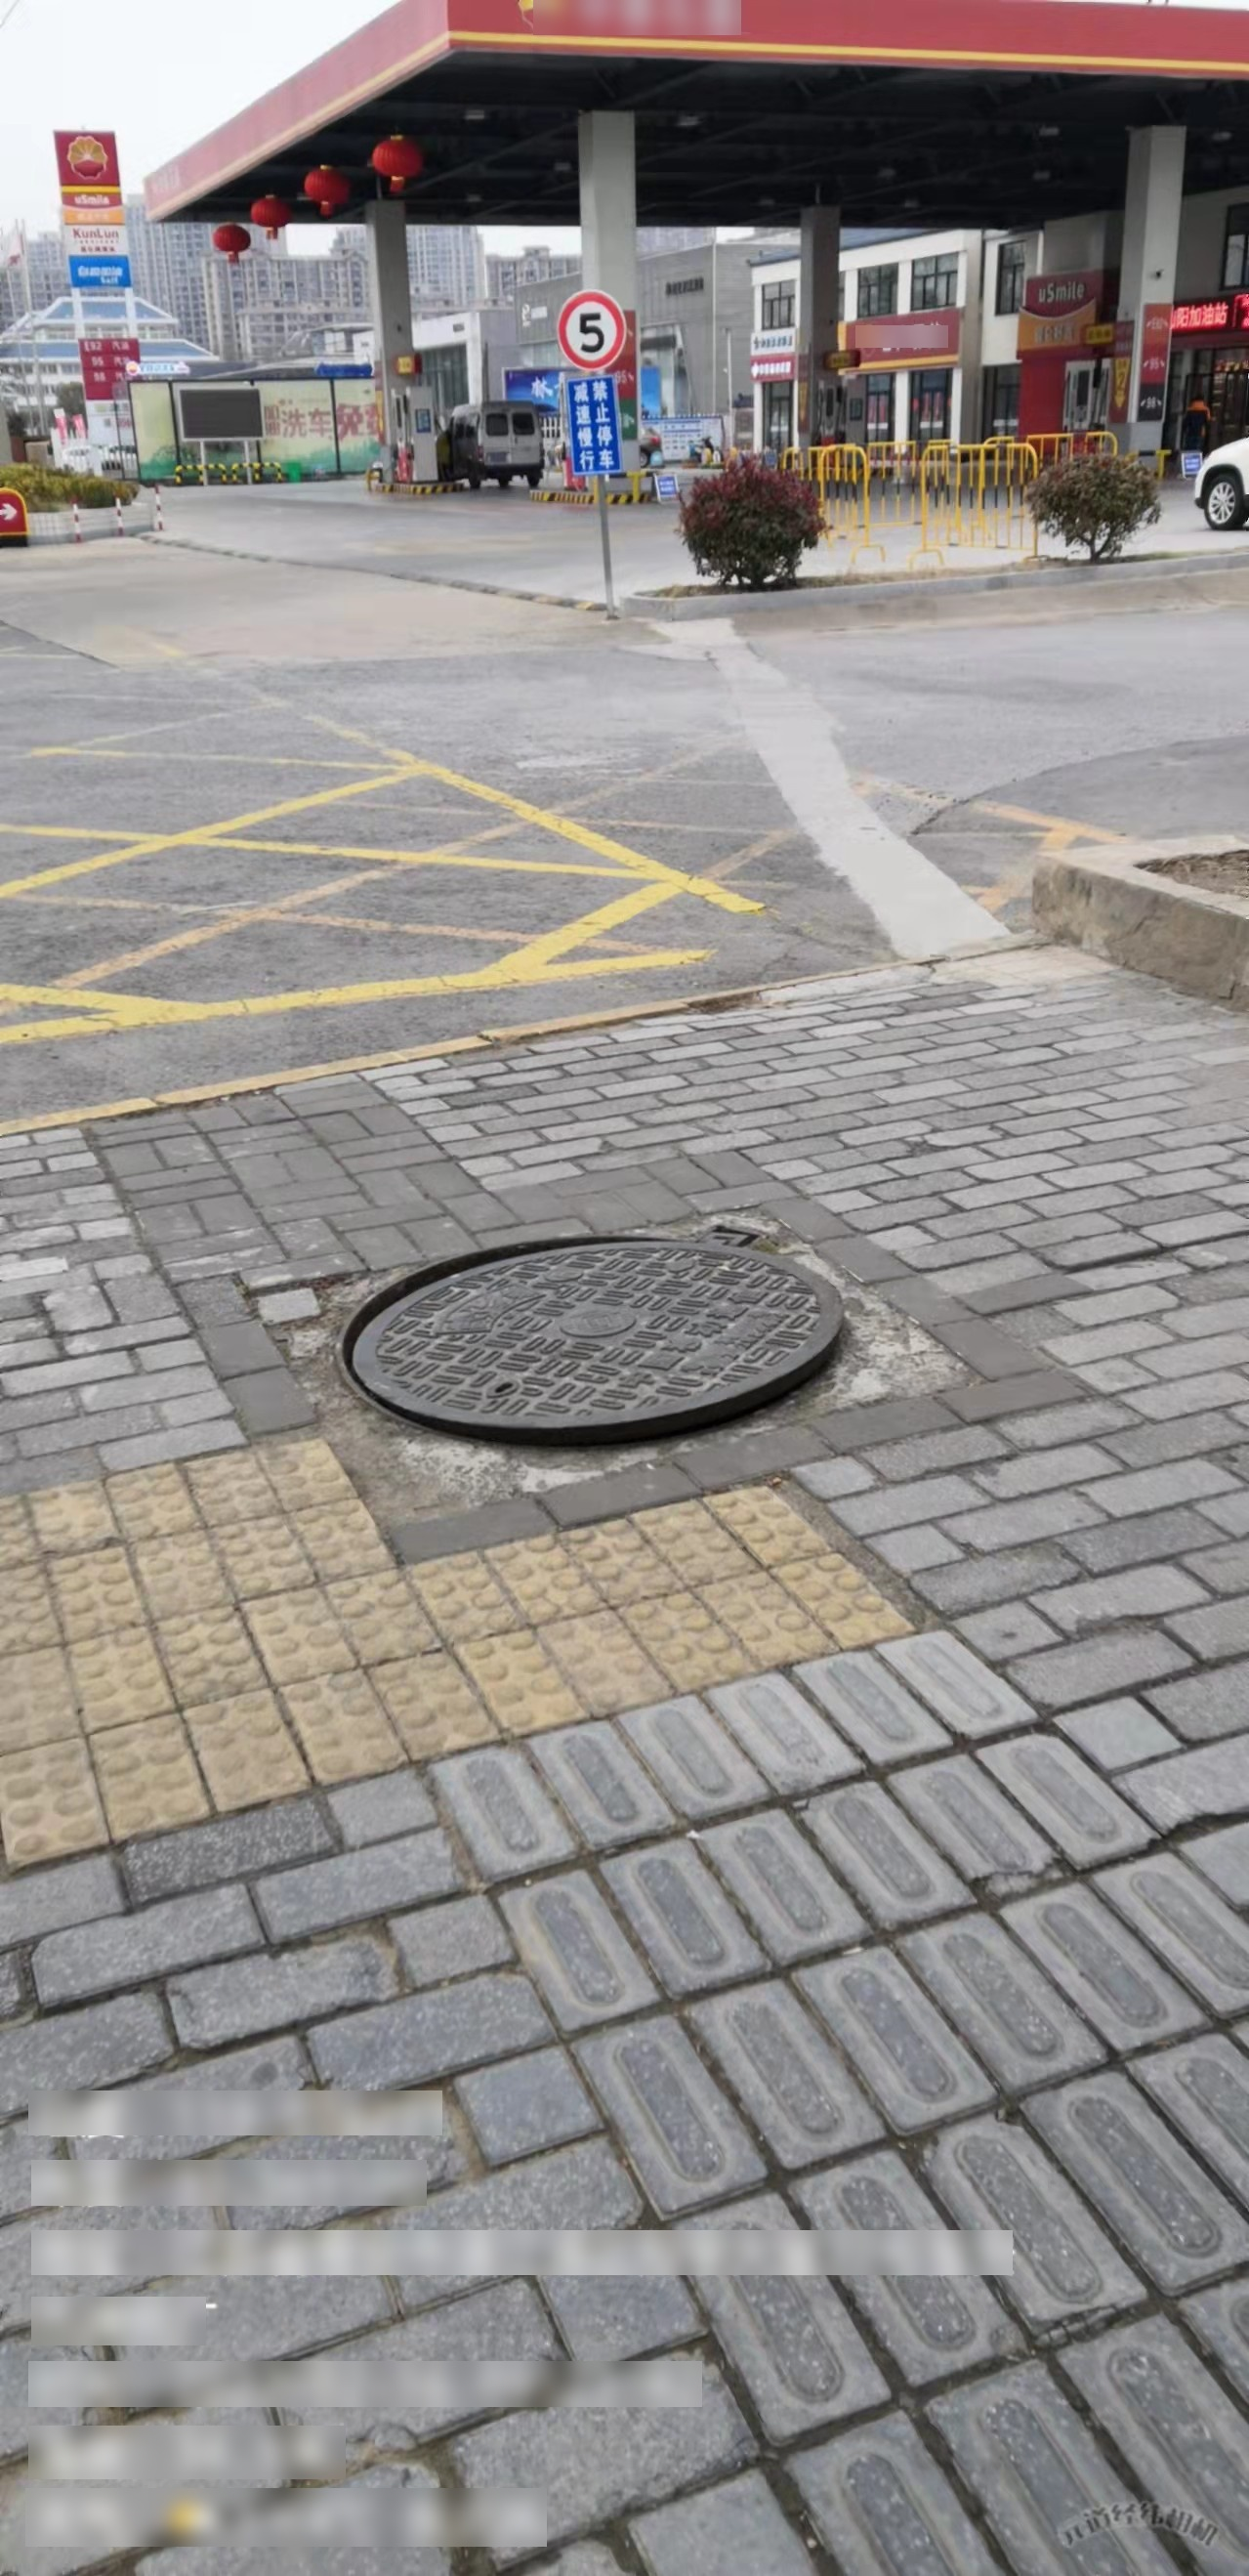uncovered: (346, 1230, 852, 1446)
